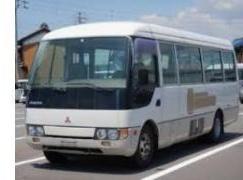bus: (23, 20, 241, 167)
